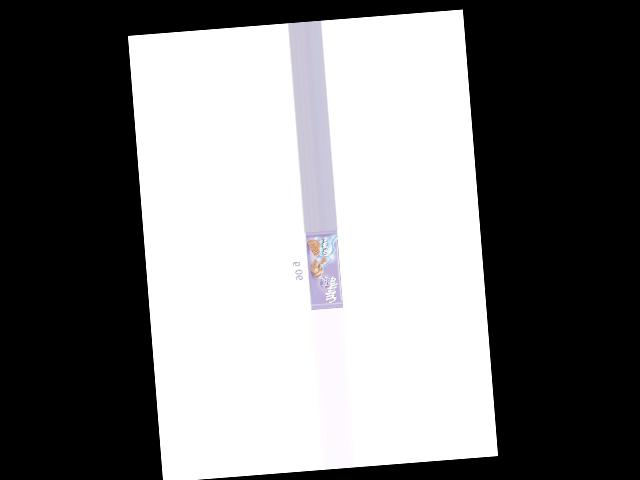chocolate: (305, 229, 343, 308)
